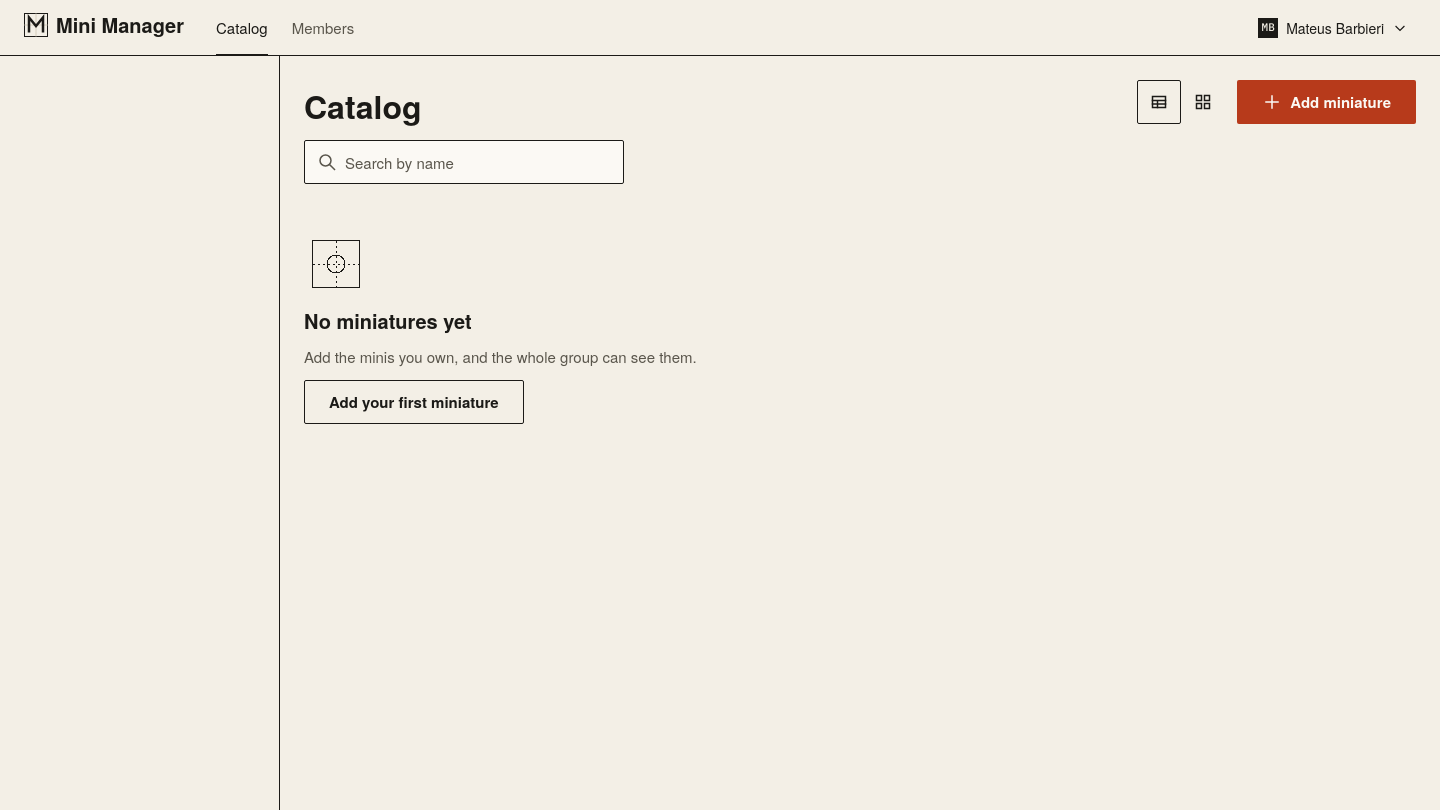
it: app routes › card 2 rule 6: logging out revokes the Session and returns to the login screen
Click the button "MB Mateus Barbieri" at (1333, 28), box [1250,6,1416,50]
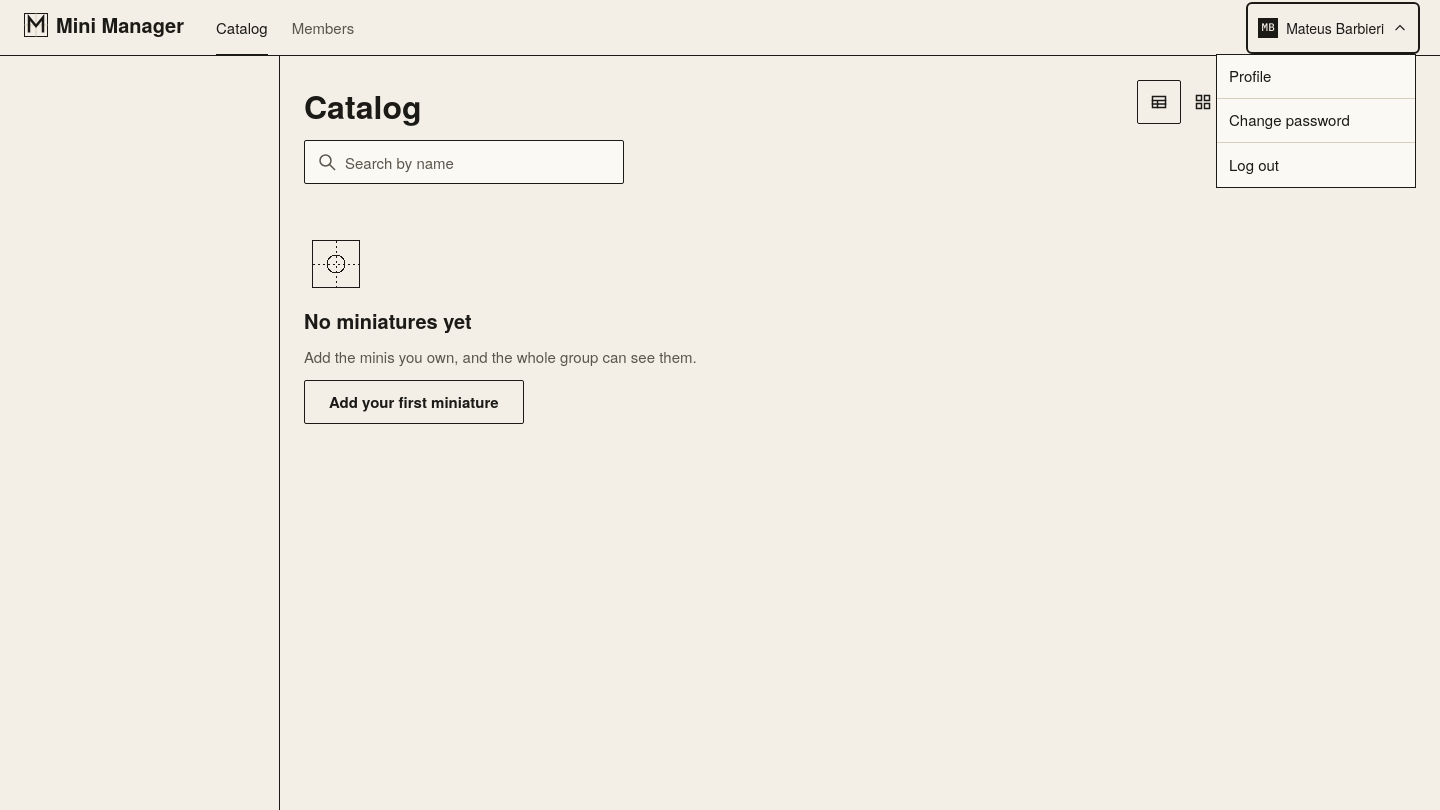
Click the button "Log out" at (1316, 164), box [1217,142,1415,186]
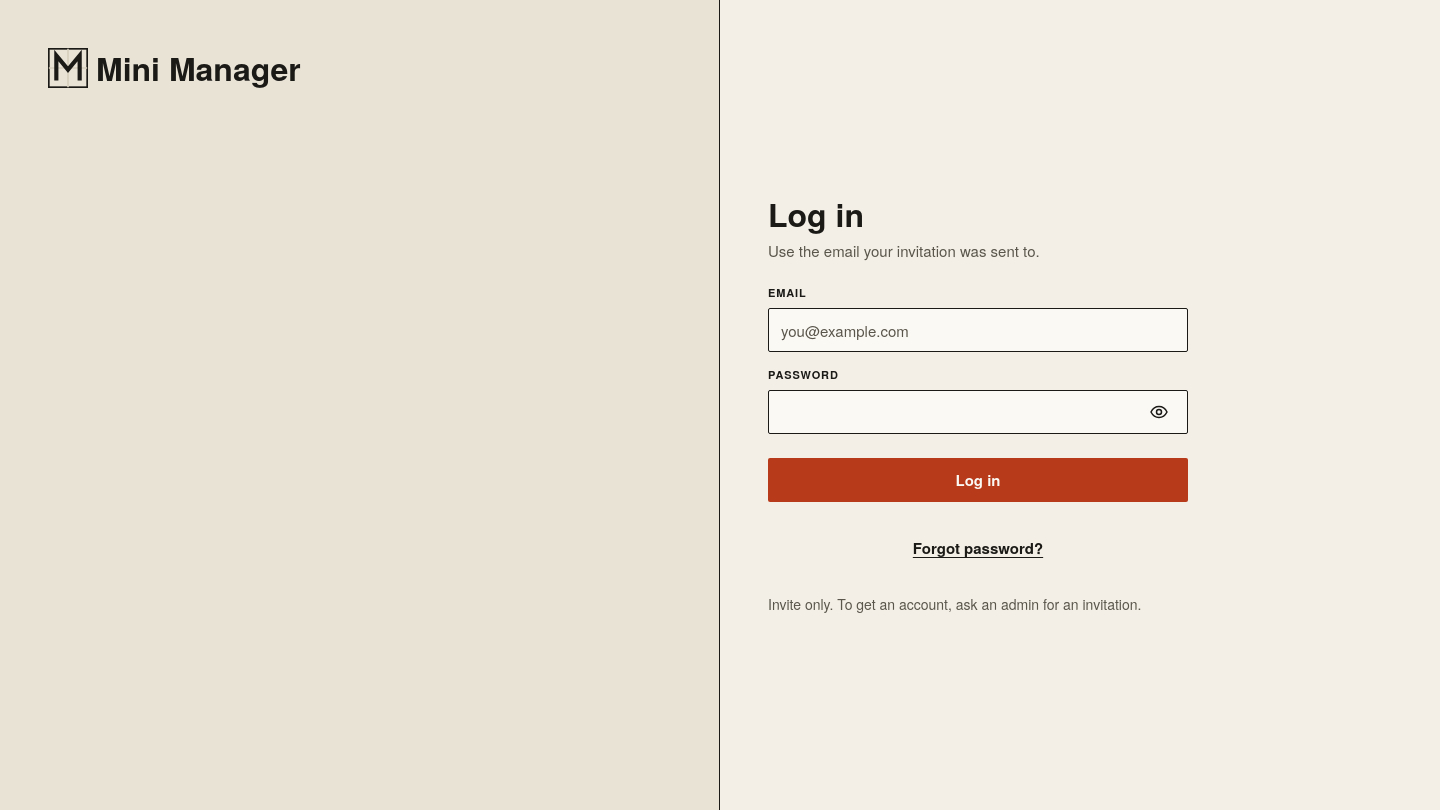
Now the heading "Log in" is shown, box [768,191,864,237]
